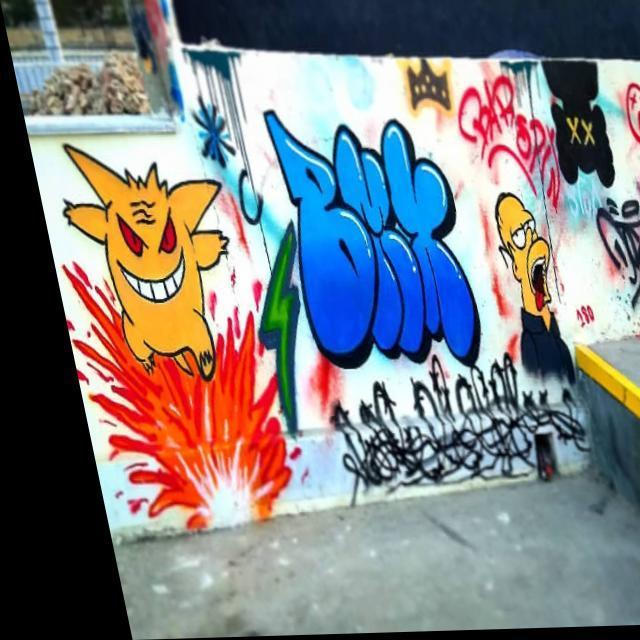-: (20, 117, 316, 525), (252, 100, 475, 376), (456, 170, 576, 402), (449, 81, 558, 206), (526, 61, 616, 192), (575, 188, 640, 298), (611, 76, 640, 158)
